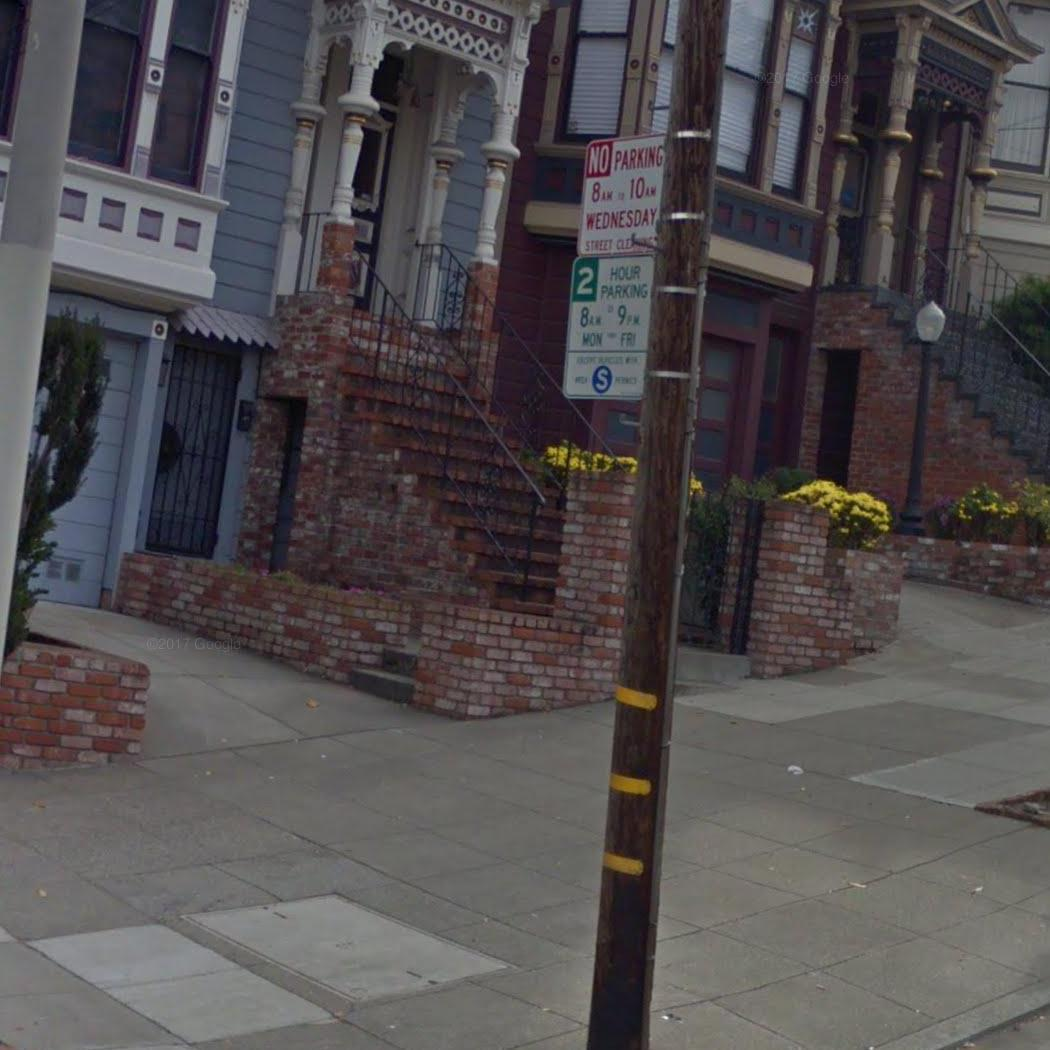2 Hour Parking: (556, 252, 665, 400)
No Parking: (572, 133, 674, 257)
